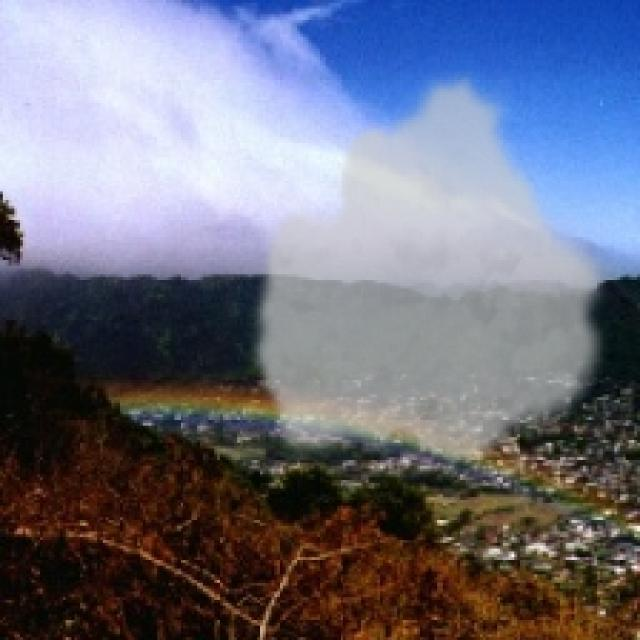Smoke: (248, 66, 614, 468)
